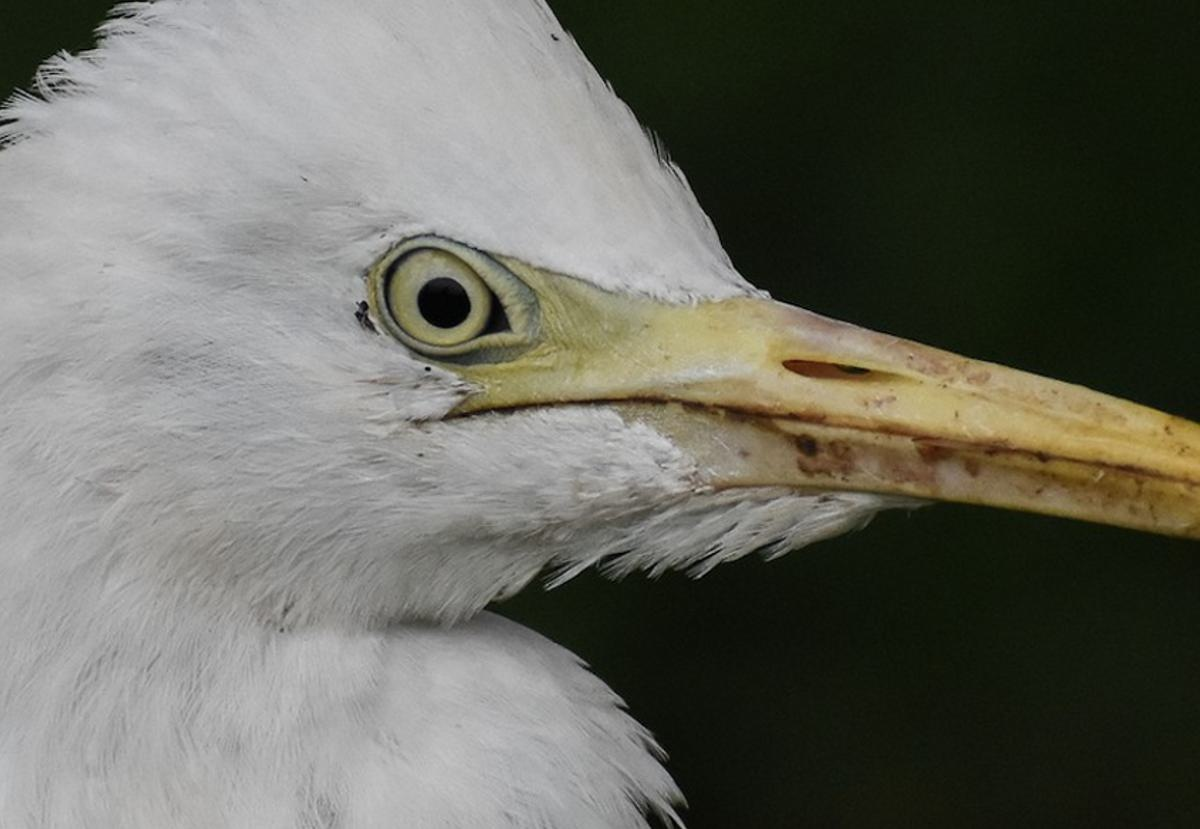egret: (4, 5, 1200, 829)
